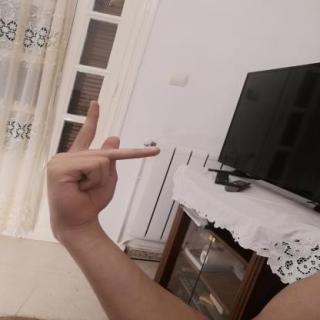DHAA: (35, 91, 172, 234)
